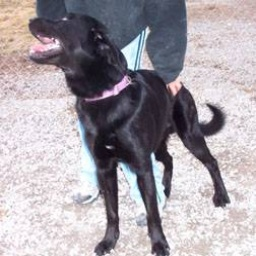dog: (23, 9, 231, 254)
